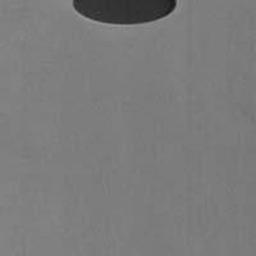Punching: (72, 0, 177, 27)
